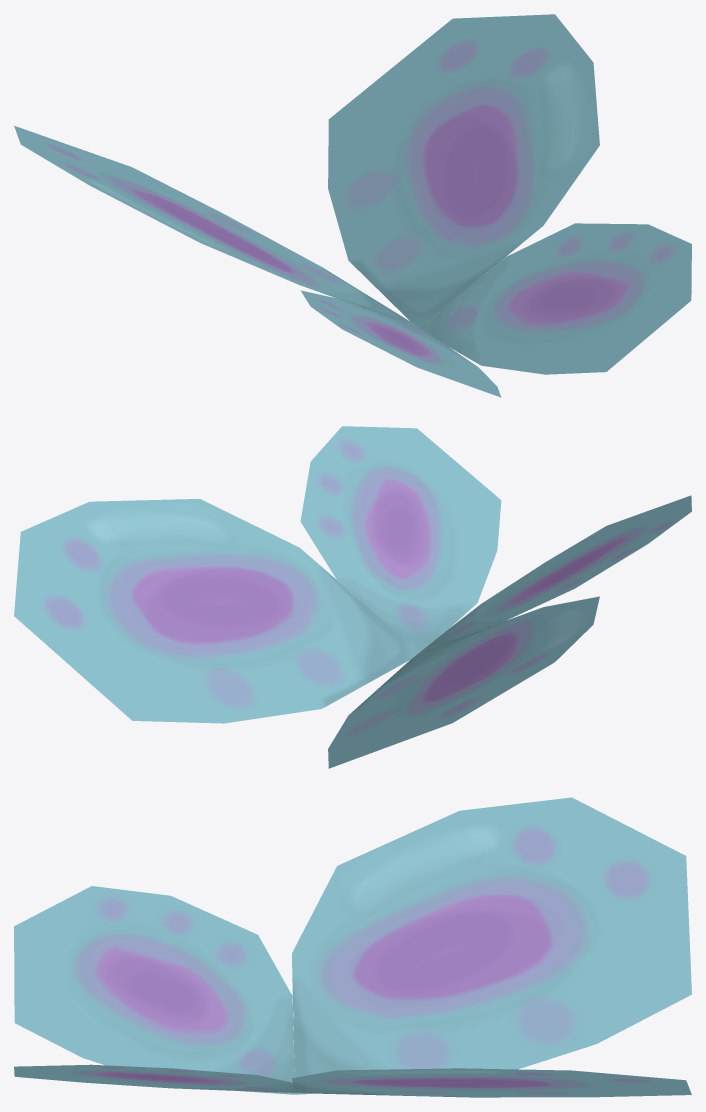
File: Butterfly.fbx
The picture shows the model from 3 angles, top to bottom: view 1: azimuth 30°, elevation 25°; view 2: azimuth 150°, elevation 25°; view 3: azimuth 270°, elevation 25°; orthographic projection. The views are drawn at different scales.
Parts seen in each view (by area): view 1: Butterfly; view 2: Butterfly; view 3: Butterfly.
Part boxes in pixels (x1,y1,x2,y2): Butterfly: (14, 14, 691, 397); Butterfly: (14, 426, 691, 768); Butterfly: (14, 797, 691, 1097).
Bounding box in the file's own units: 348 × 332 × 90.61.
Materials: 1 (1 with a texture image).
